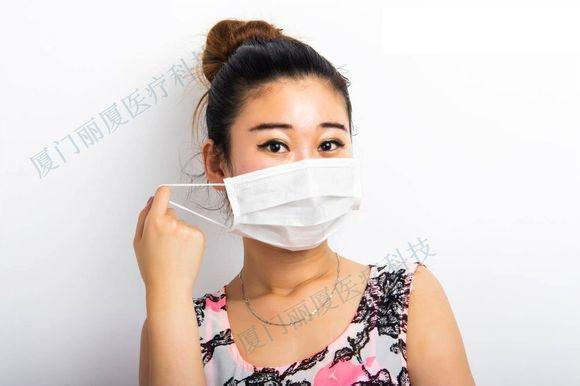OK: (233, 111, 361, 241)
